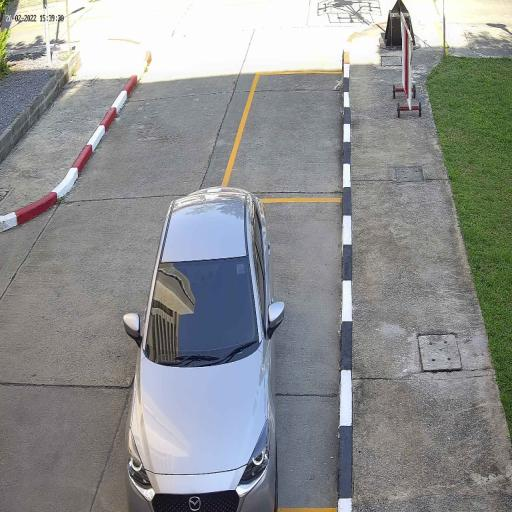car: (124, 186, 274, 512)
